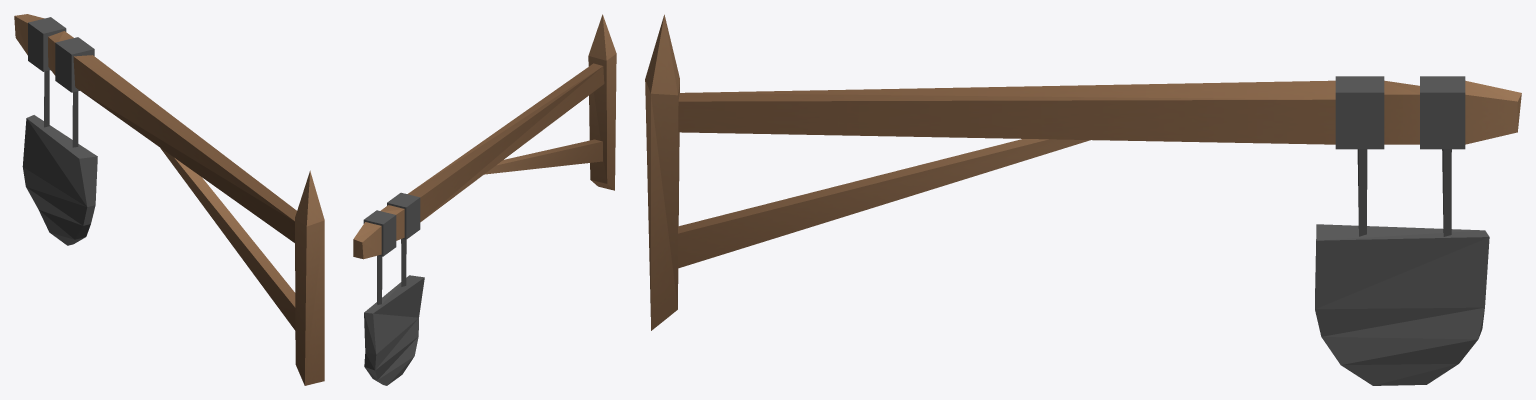
File: ZLP_Build_D_43.FBX
The picture shows the model from 3 angles, left to right: view 1: azimuth 30°, elevation 25°; view 2: azimuth 150°, elevation 25°; view 3: azimuth 270°, elevation 25°; orthographic projection. The views are drawn at different scales.
Visible parts, largest first — view 1: ZLP_Build_D_43; view 2: ZLP_Build_D_43; view 3: ZLP_Build_D_43.
Part boxes in pixels (box(x1,y1,x2,y2)): ZLP_Build_D_43: box(14, 14, 324, 385); ZLP_Build_D_43: box(353, 14, 616, 385); ZLP_Build_D_43: box(645, 14, 1521, 385).
Bounding box in the file's own units: 15.7 × 158 × 340.
